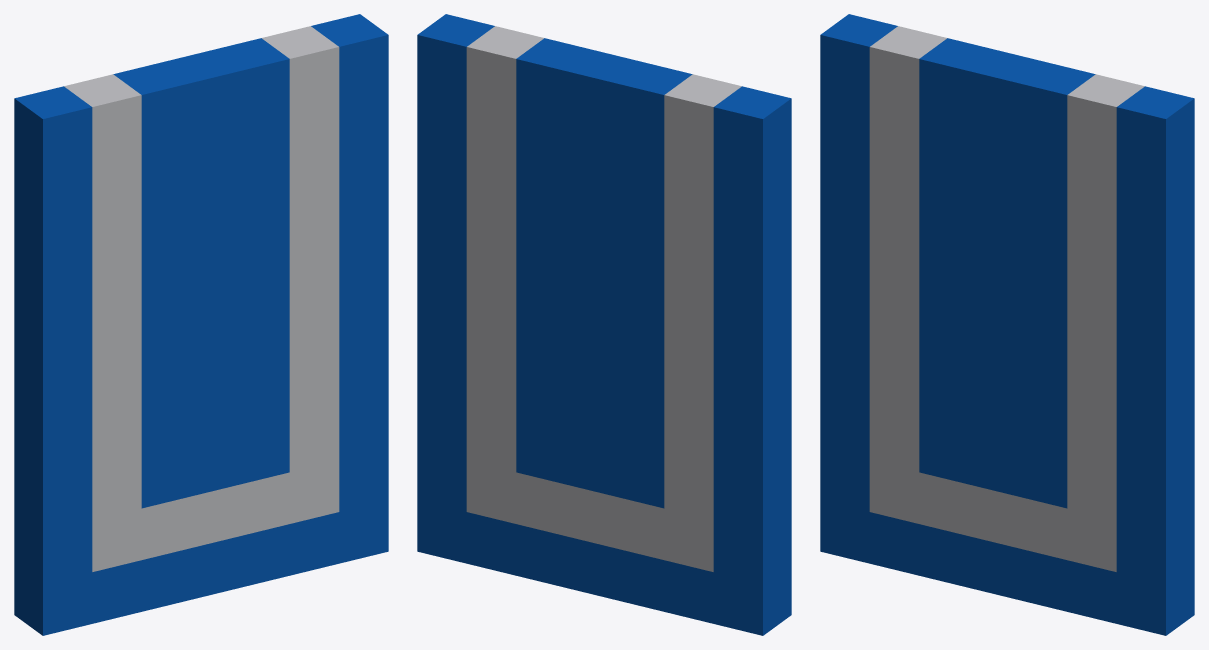
File: banner_a_blue.obj
3 views of the same model, side by side, from view 1: azimuth 30°, elevation 25°; view 2: azimuth 150°, elevation 25°; view 3: azimuth 330°, elevation 25° (orthographic).
Bounding box in the file's own units: 0.7 × 1 × 0.1.
Materials: 1 (1 with a texture image).
